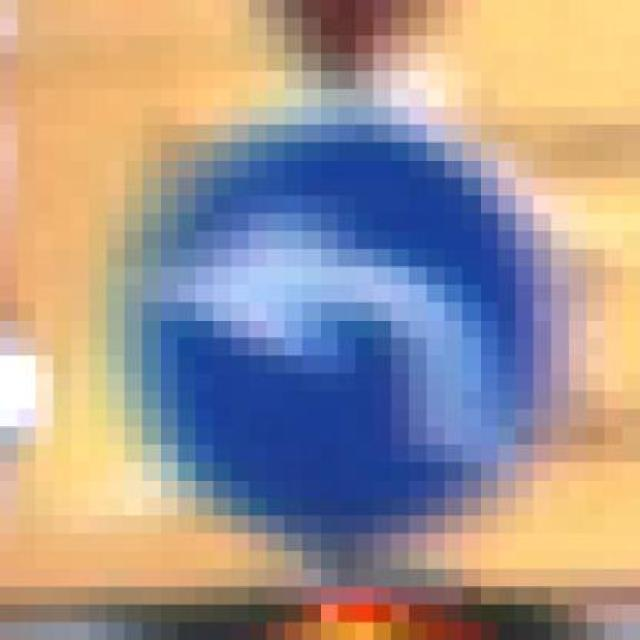Turn left ahead: (89, 107, 569, 587)
